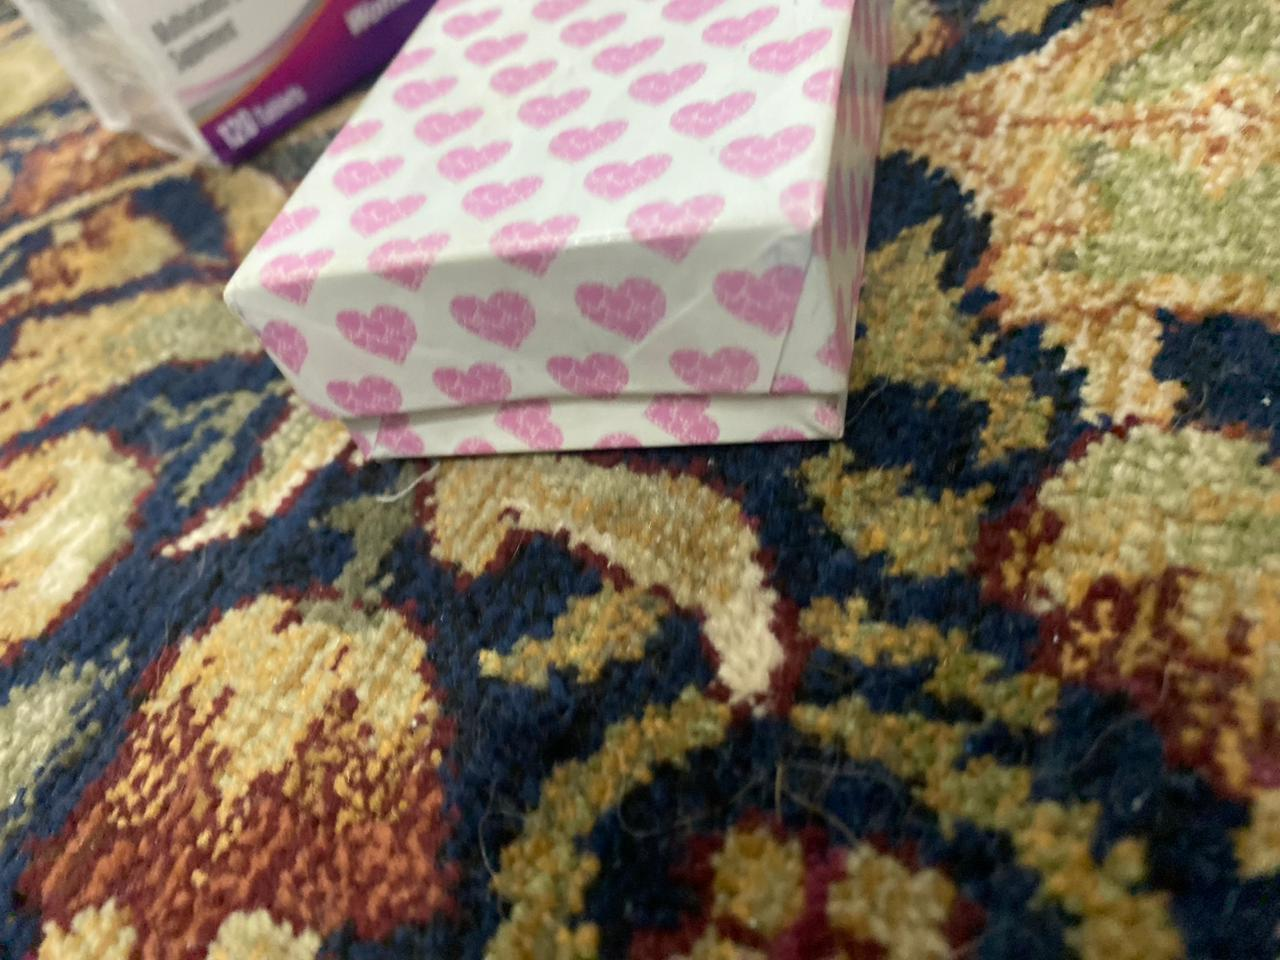Centrum: (1, 1, 439, 175)
Pink Box: (220, 4, 924, 467)
